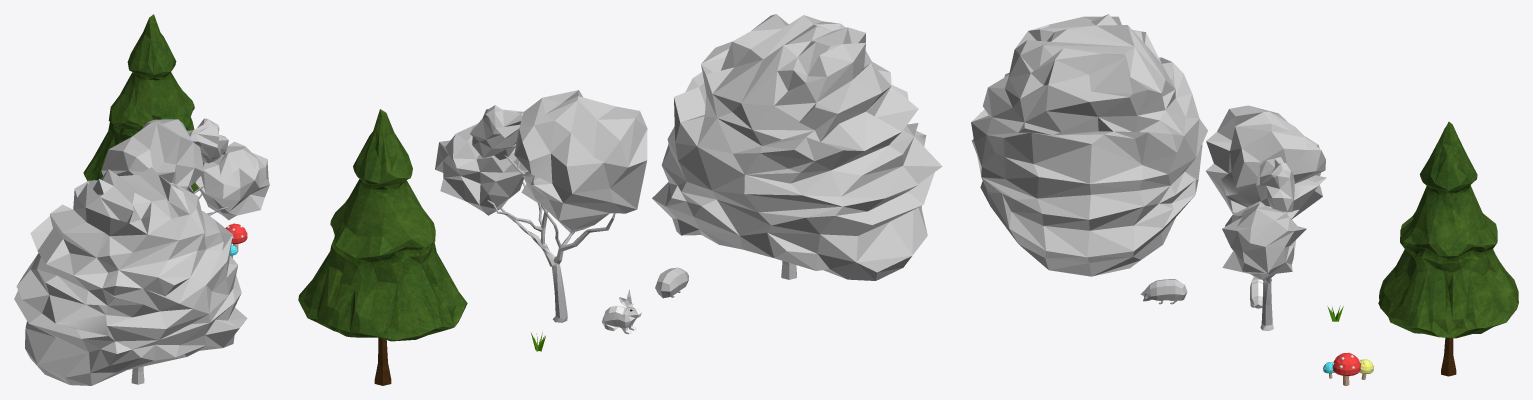
File: forest1.dae
3 views of the same model, side by side, from view 1: azimuth 30°, elevation 25°; view 2: azimuth 150°, elevation 25°; view 3: azimuth 270°, elevation 25° (orthographic). The views are drawn at different scales.
Parts seen in each view (by area): view 1: SycamoreTree, BloodwoodTree, PineTree, Mushrooms; view 2: SycamoreTree, BloodwoodTree, PineTree, Rabbit, Hedgehog; view 3: SycamoreTree, PineTree, BloodwoodTree, Mushrooms, Hedgehog.
Boxes of the visible parts, bbox=[...] form: SycamoreTree: bbox=[14, 167, 247, 385]; BloodwoodTree: bbox=[101, 118, 269, 220]; PineTree: bbox=[83, 14, 203, 191]; Mushrooms: bbox=[225, 223, 247, 257]; SycamoreTree: bbox=[652, 14, 942, 280]; BloodwoodTree: bbox=[435, 90, 647, 322]; PineTree: bbox=[298, 109, 467, 385]; Rabbit: bbox=[601, 289, 641, 334]; Hedgehog: bbox=[655, 267, 688, 298]; SycamoreTree: bbox=[971, 14, 1207, 276]; PineTree: bbox=[1378, 122, 1518, 376]; BloodwoodTree: bbox=[1206, 105, 1326, 330]; Mushrooms: bbox=[1323, 352, 1374, 385]; Hedgehog: bbox=[1140, 279, 1187, 304].
Size of the model in its own units: 22.85 by 27.95 by 14.19.
